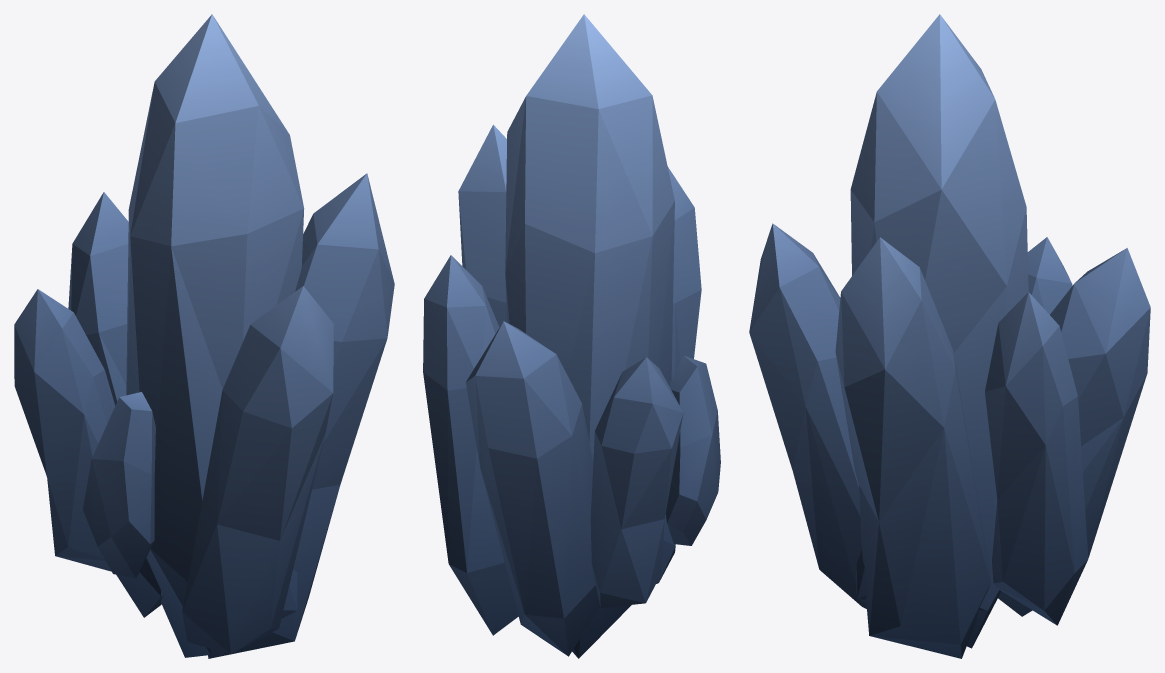
File: SM_IceSpike2.fbx
3 views of the same model, side by side, from view 1: azimuth 30°, elevation 25°; view 2: azimuth 150°, elevation 25°; view 3: azimuth 270°, elevation 25° (orthographic). The views are drawn at different scales.
Visible parts, largest first — view 1: SM_IceSpike2; view 2: SM_IceSpike2; view 3: SM_IceSpike2.
Part boxes in pixels (left/top/right/bottom): SM_IceSpike2: left=14, top=14, right=394, bottom=658; SM_IceSpike2: left=423, top=14, right=720, bottom=658; SM_IceSpike2: left=749, top=14, right=1150, bottom=658.
Bounding box in the file's own units: 161 × 338 × 192.
